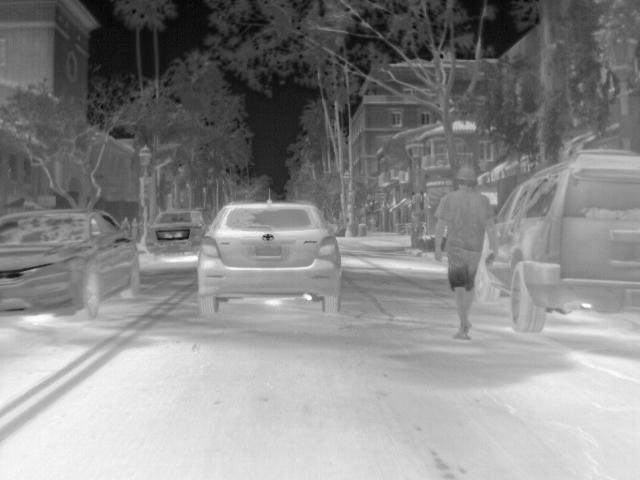car: (475, 148, 639, 333), (196, 200, 342, 314), (0, 208, 142, 321), (146, 208, 205, 259)
person: (433, 165, 497, 340), (408, 208, 419, 249), (119, 216, 131, 237)
